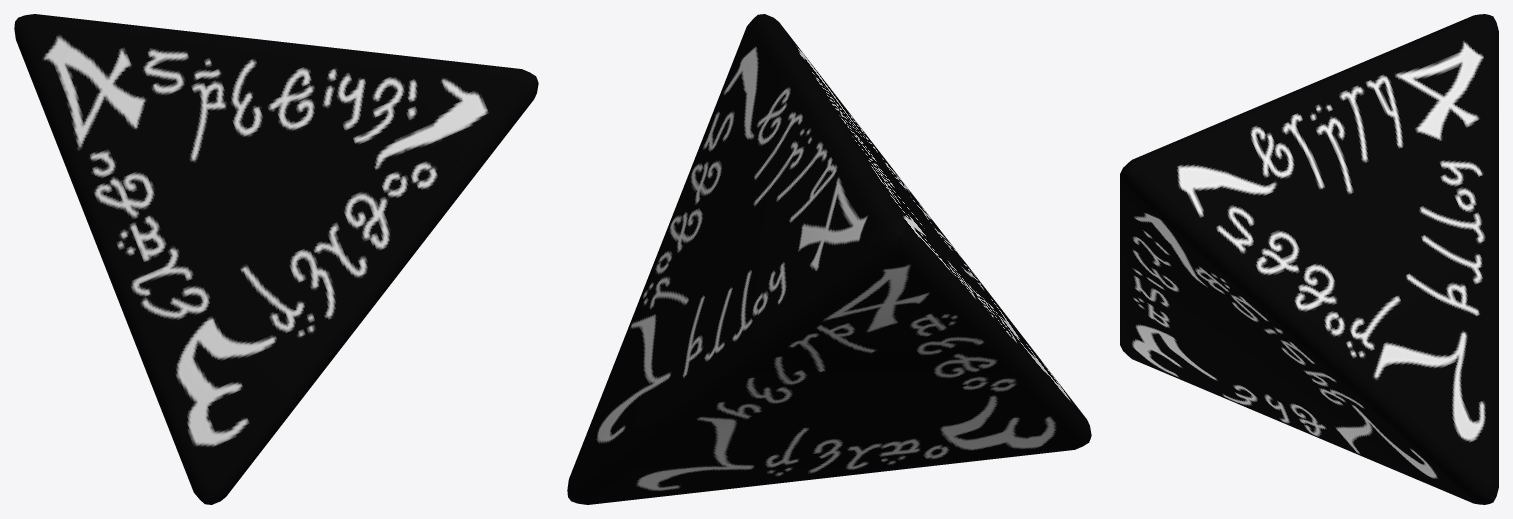
The model's file is elvish_SELV05_d4.glb.
3 views of the same model, side by side, from view 1: azimuth 30°, elevation 25°; view 2: azimuth 150°, elevation 25°; view 3: azimuth 270°, elevation 25° (orthographic). The views are drawn at different scales.
Parts seen in each view (by area): view 1: Solid.003; view 2: Solid.003; view 3: Solid.003.
Boxes of the visible parts, box(x1,y1,x2,y2) form: Solid.003: box(14, 14, 538, 504); Solid.003: box(567, 14, 1091, 504); Solid.003: box(1120, 14, 1498, 504).
Bounding box in the file's own units: 127 × 127 × 127.
Materials: 1 (1 with a texture image).
